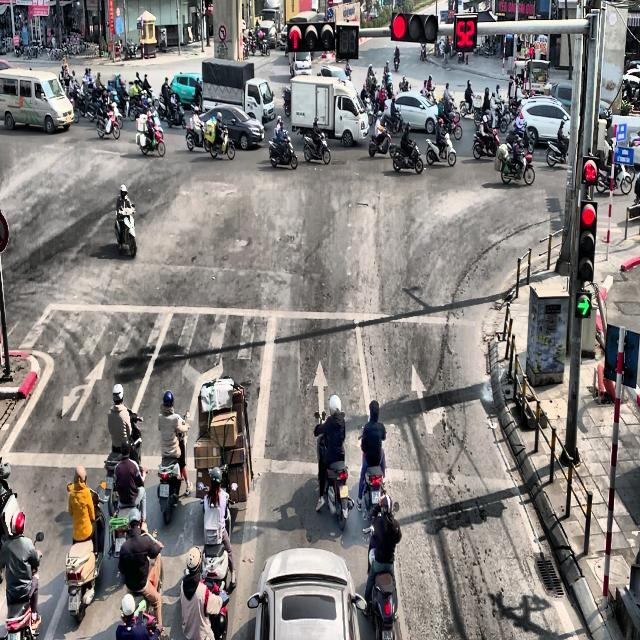CAR: (247, 546, 367, 640), (186, 103, 265, 151), (380, 92, 440, 134), (170, 72, 202, 108)
MOTORBIKE: (64, 486, 107, 623), (4, 533, 44, 639), (362, 526, 398, 639), (157, 411, 190, 525), (108, 466, 148, 558), (103, 409, 143, 498), (317, 436, 354, 530), (356, 424, 392, 520), (595, 137, 632, 195), (0, 458, 23, 541), (500, 143, 535, 185), (135, 116, 166, 157), (389, 140, 423, 174), (268, 132, 298, 170), (115, 205, 136, 258), (205, 124, 235, 160), (426, 132, 456, 167), (302, 130, 330, 164), (472, 127, 500, 159), (96, 106, 120, 140), (186, 119, 208, 152), (368, 127, 392, 157), (380, 108, 404, 134), (546, 139, 568, 167), (459, 96, 475, 117), (282, 87, 290, 117), (398, 75, 411, 92), (259, 38, 270, 56), (393, 52, 400, 70), (420, 43, 427, 61)
TRAFFIC_LIGHT: (576, 155, 598, 282), (286, 18, 336, 52), (389, 10, 439, 42), (453, 14, 477, 52)
